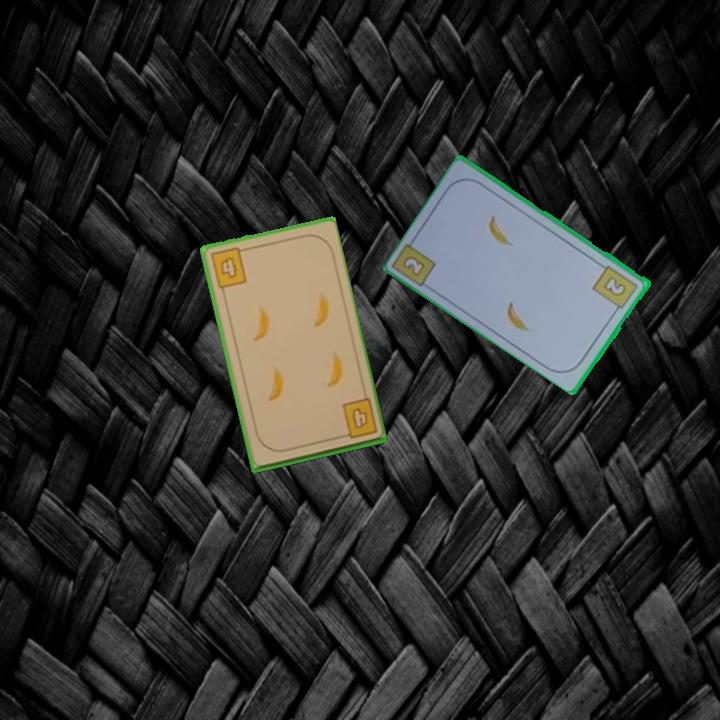2b: (589, 262, 641, 316), (401, 254, 426, 277)
4b: (335, 395, 380, 442), (207, 244, 249, 291)
